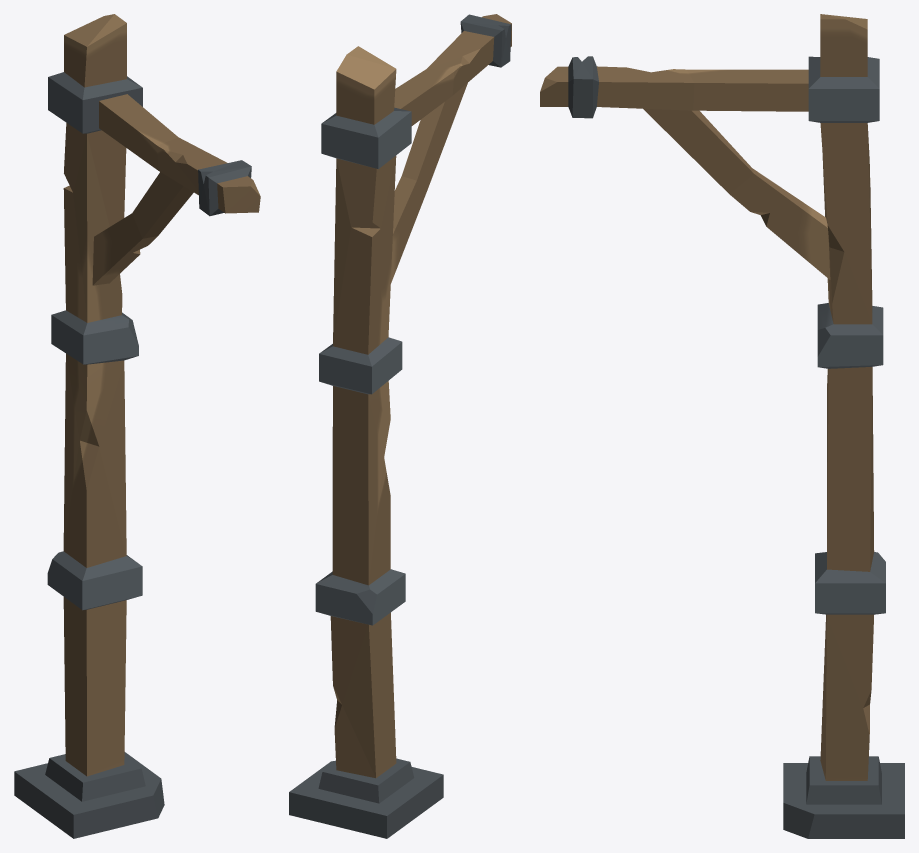
The model's file is SM_Prop_Lamp_Post_01.fbx.
The picture shows the model from 3 angles, left to right: view 1: azimuth 30°, elevation 25°; view 2: azimuth 150°, elevation 25°; view 3: azimuth 270°, elevation 25°; orthographic projection. The views are drawn at different scales.
Parts seen in each view (by area): view 1: SM_Prop_Lamp_Post_01; view 2: SM_Prop_Lamp_Post_01; view 3: SM_Prop_Lamp_Post_01.
Boxes of the visible parts, box(x1,y1,x2,y2) form: SM_Prop_Lamp_Post_01: box(14, 14, 260, 838); SM_Prop_Lamp_Post_01: box(289, 14, 511, 838); SM_Prop_Lamp_Post_01: box(540, 14, 904, 838).
Bounding box in the file's own units: 43.68 × 318 × 131.
Materials: 1 (1 with a texture image).
